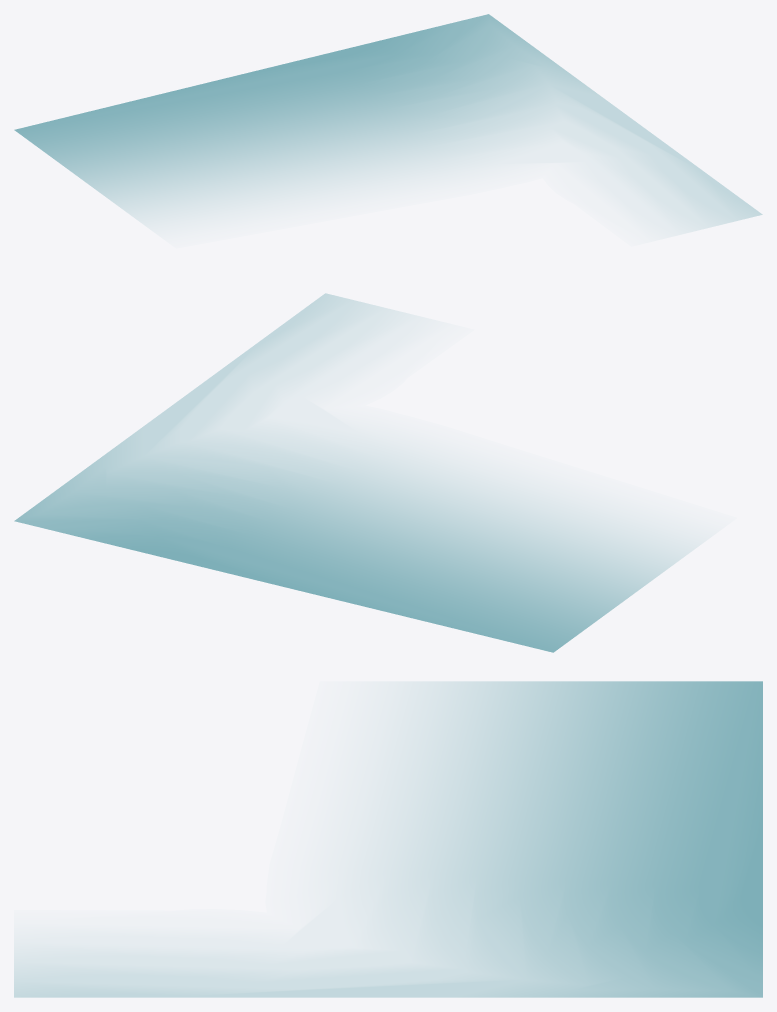
The picture shows the model from 3 angles, top to bottom: view 1: azimuth 30°, elevation 25°; view 2: azimuth 150°, elevation 25°; view 3: azimuth 270°, elevation 25°; orthographic projection. The views are drawn at different scales.
Parts seen in each view (by area): view 1: city; view 2: city; view 3: city.
Boxes of the visible parts, x1=… form: city: x1=14, y1=14, x2=762, y2=231; city: x1=14, y1=293, x2=698, y2=652; city: x1=14, y1=681, x2=762, y2=997.
Size of the model in its own units: 500 by 0 by 500.
